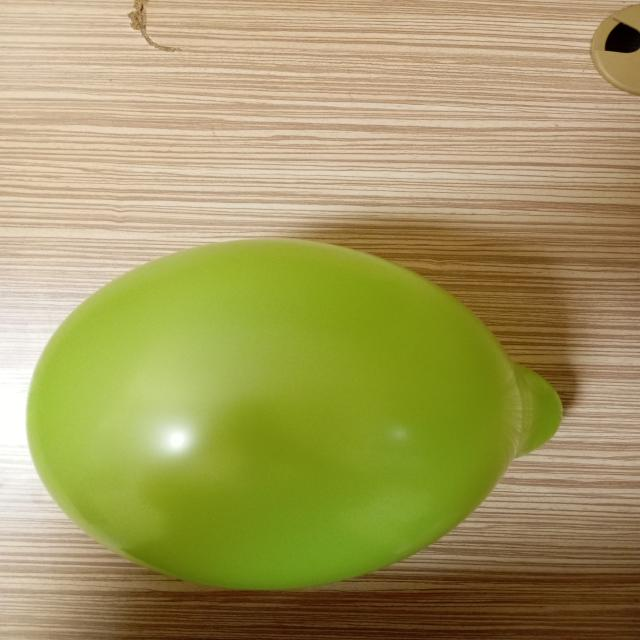balloon: (26, 239, 562, 590)
